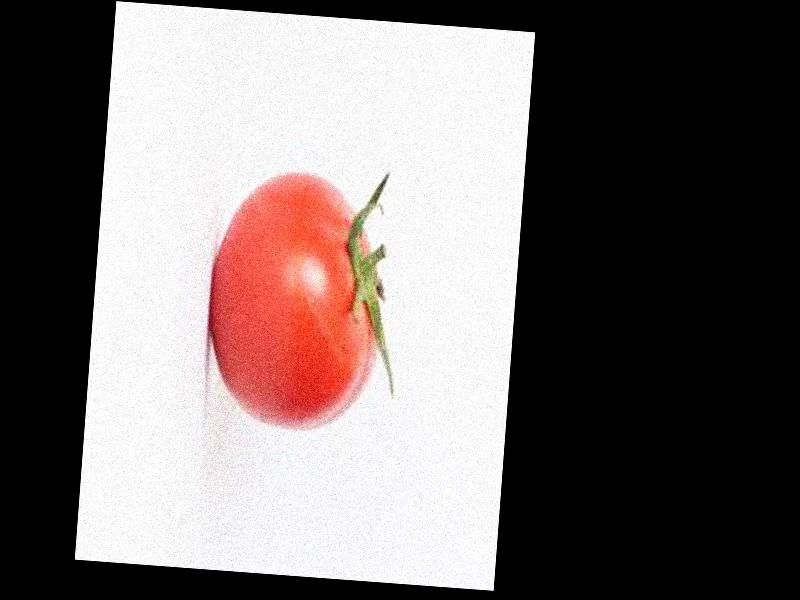Tomato: (199, 167, 387, 438)
